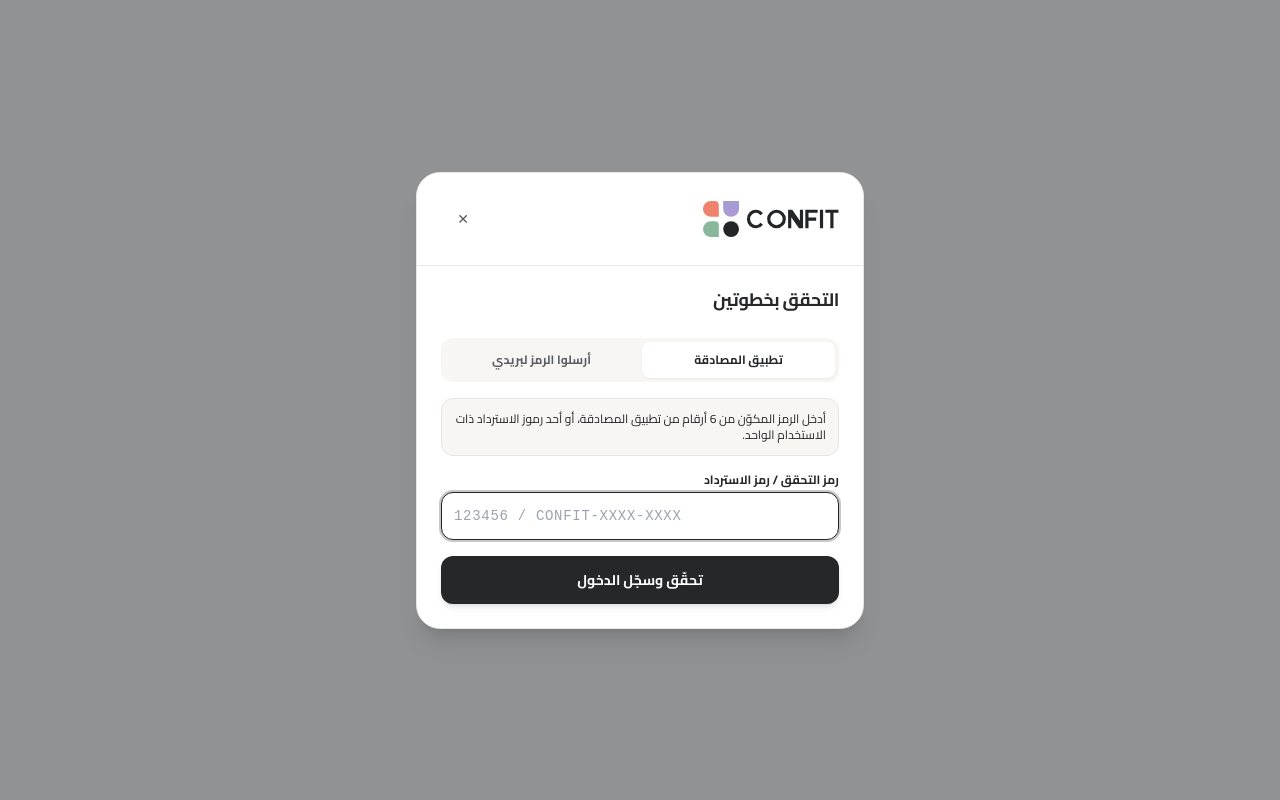
it: i18n + a11y › AR: chooser and email flow fully translated; axe clean
Click the radio button labelled "أرسلوا الرمز لبريدي".
click(542, 360)  # box x1=445 y1=342 x2=638 y2=378
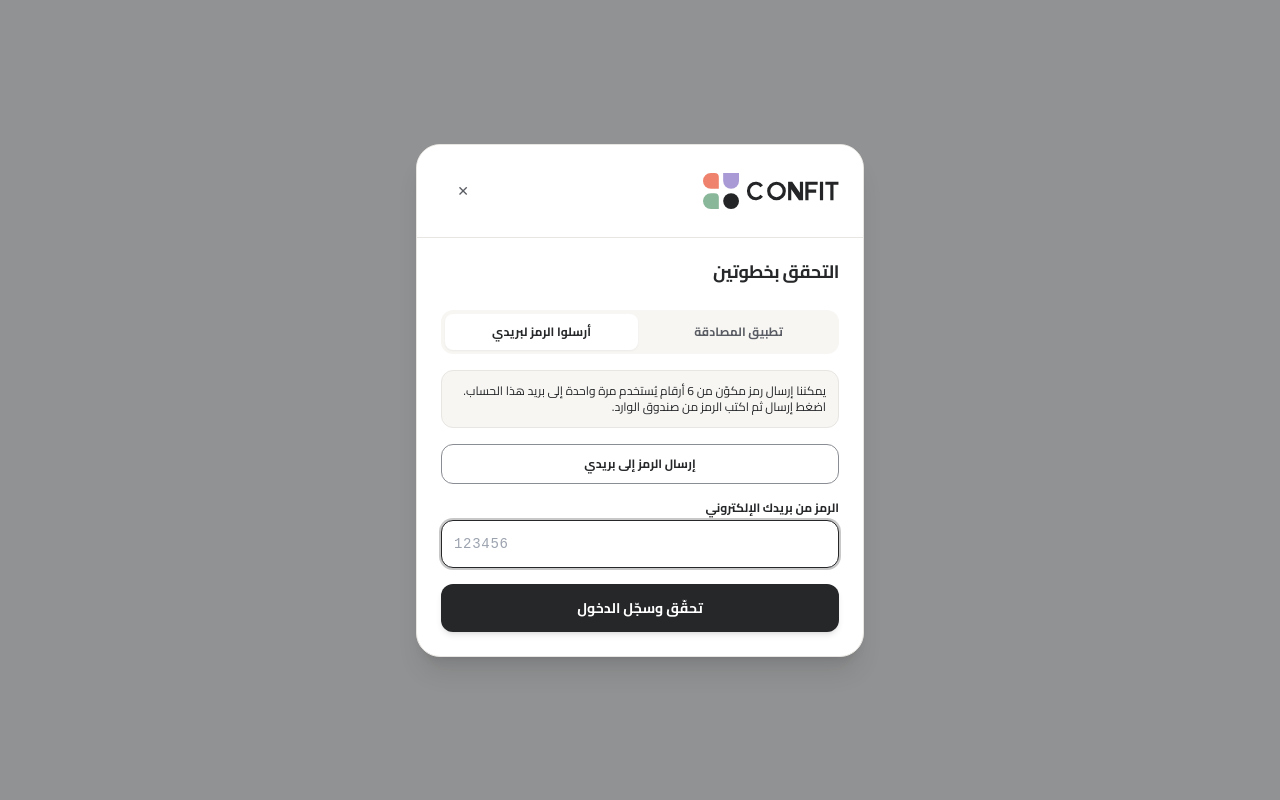
Expected: the text "يمكننا إرسال رمز مكوّن من 6 أرقام" is shown, x1=463 y1=378 x2=826 y2=418
Click the button "إرسال الرمز إلى بريدي".
click(640, 464)  # box x1=441 y1=444 x2=839 y2=484
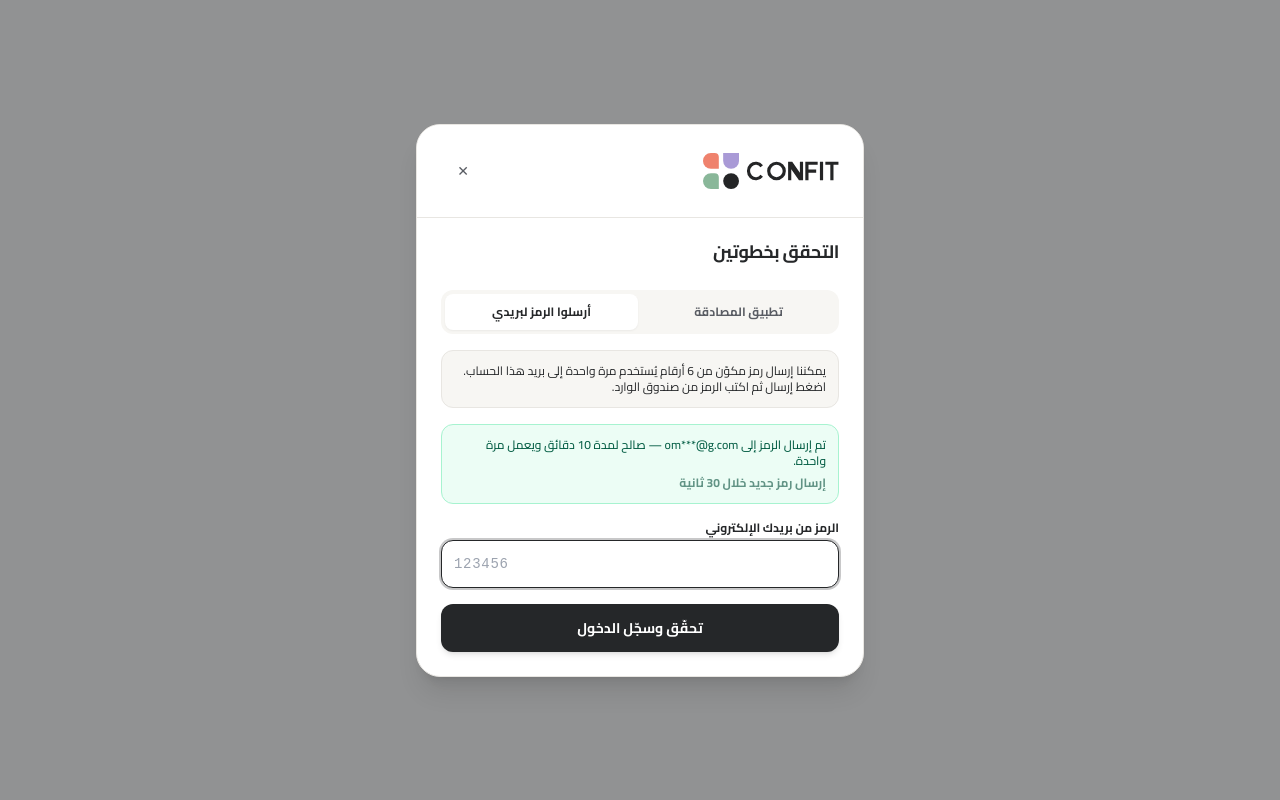
Expected: the text "تم إرسال الرمز إلى" is shown, x1=486 y1=432 x2=826 y2=472
